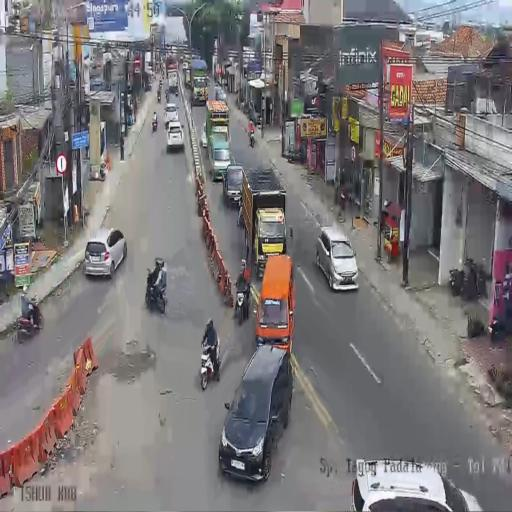3: (240, 166, 286, 271), (205, 99, 229, 150), (190, 58, 208, 106), (166, 56, 179, 91), (182, 62, 191, 86), (144, 50, 152, 74)
car: (218, 344, 292, 481), (348, 458, 475, 512), (316, 225, 359, 291), (84, 226, 127, 278), (222, 163, 245, 206), (166, 120, 184, 152), (164, 102, 178, 123), (214, 86, 227, 104), (201, 122, 207, 147)
truck: (200, 329, 220, 390), (16, 306, 42, 343), (145, 270, 166, 314), (234, 277, 251, 324), (248, 128, 255, 147), (152, 111, 158, 132), (165, 87, 170, 102), (157, 84, 161, 102), (160, 65, 165, 79)
